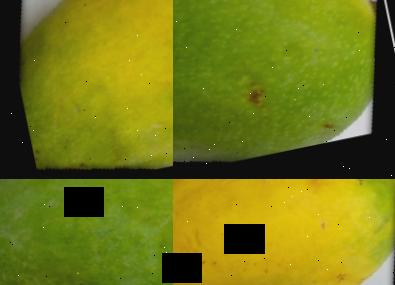PartiallyRipe: (0, 0, 173, 179)
Ripe: (173, 179, 395, 285)
Unripe: (173, 0, 395, 179), (0, 179, 173, 285)
